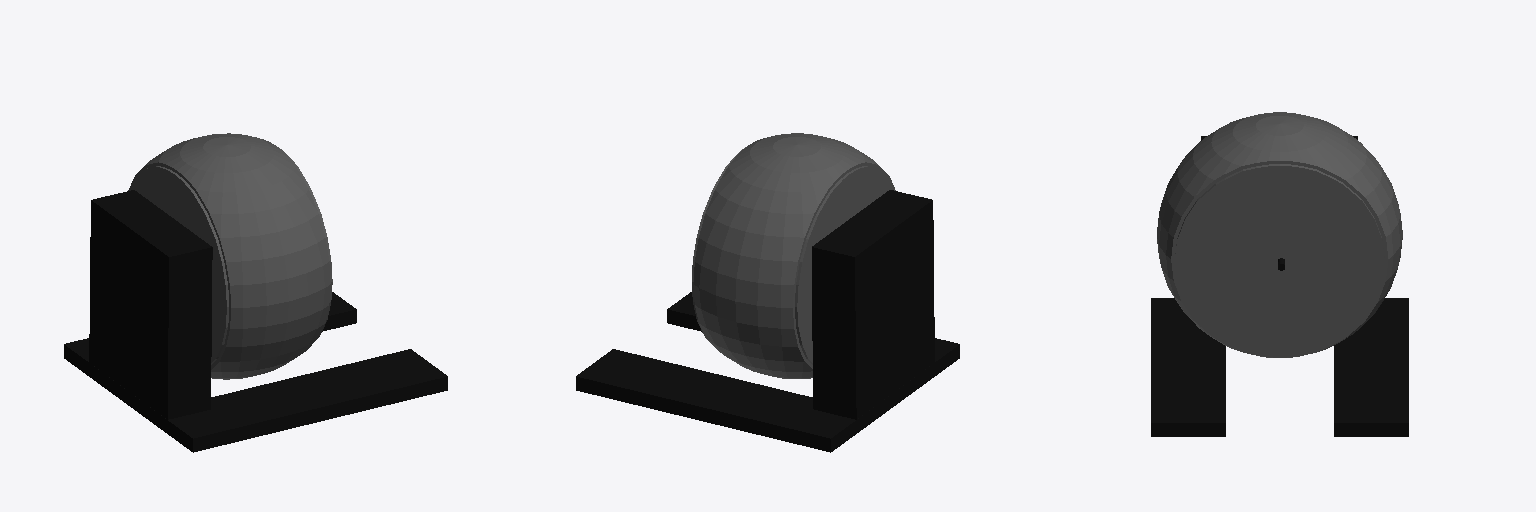
The picture shows the model from 3 angles: view 1: azimuth 30°, elevation 25°; view 2: azimuth 150°, elevation 25°; view 3: azimuth 270°, elevation 25°; orthographic projection.
Parts seen in each view (by area): view 1: 平面_平面.001, qiu_球体.001; view 2: 平面_平面.001, qiu_球体.001; view 3: qiu_球体.001, 平面_平面.001.
Boxes of the visible parts, x1,y1,x2,y2 form: 平面_平面.001: [64, 190, 447, 452]; qiu_球体.001: [128, 133, 332, 379]; 平面_平面.001: [576, 190, 959, 452]; qiu_球体.001: [692, 133, 895, 378]; qiu_球体.001: [1157, 112, 1402, 357]; 平面_平面.001: [1151, 136, 1408, 436].
Bounding box in the file's own units: 7.84 × 6.94 × 6.87.